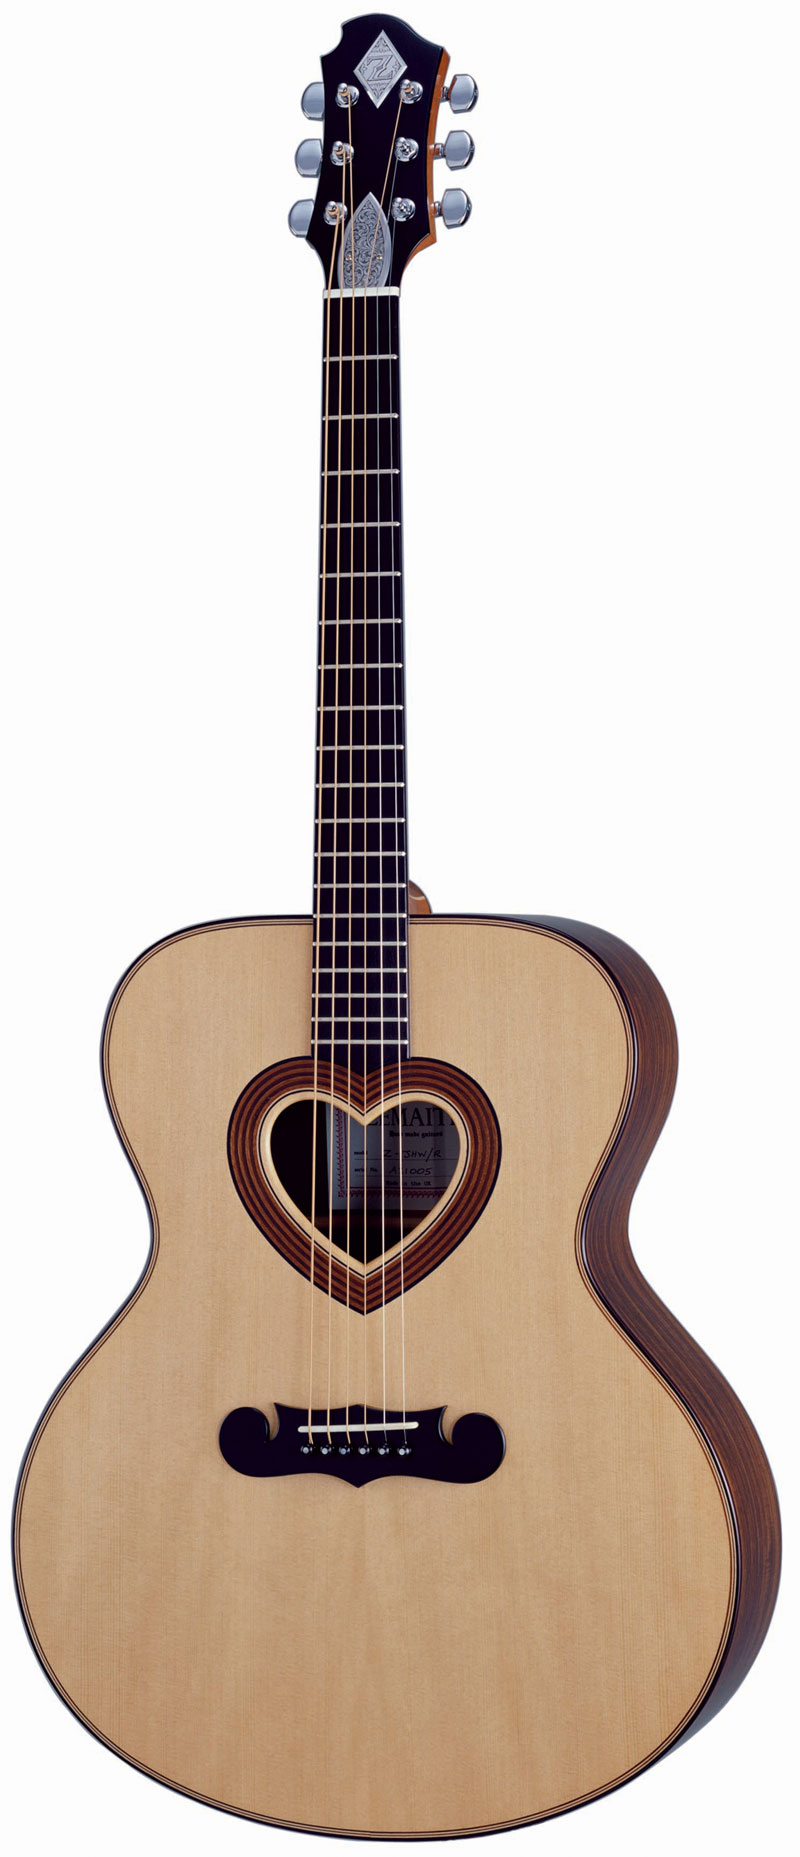guitar: (13, 11, 786, 1830)
